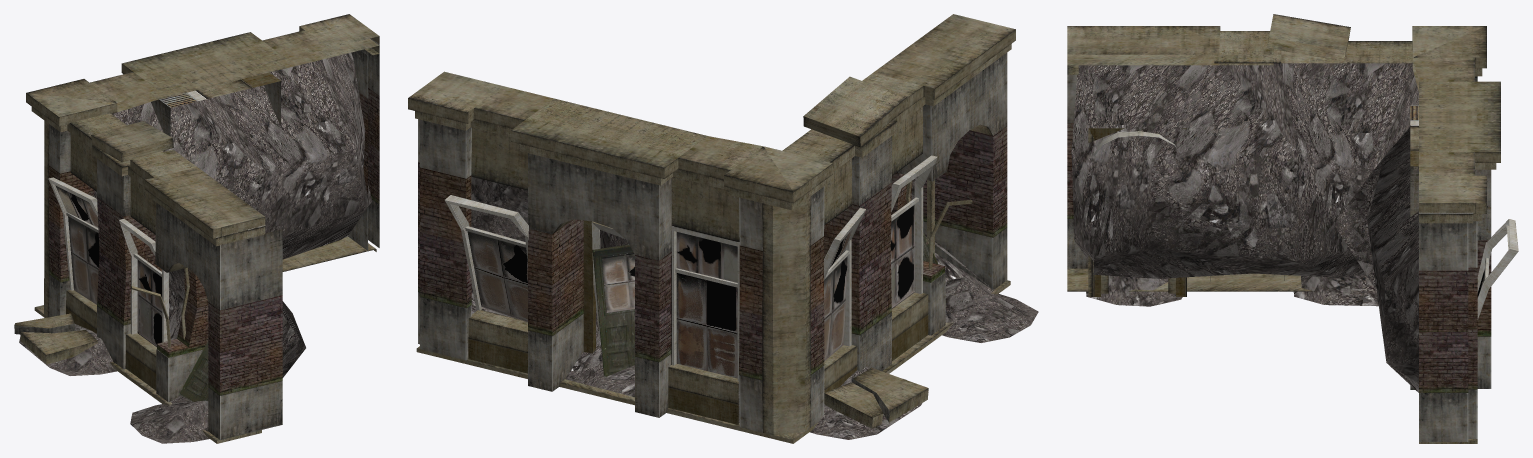
The model's file is Corner_Building_Part_010_Base.fbx.
3 renders of one model, left to right at view 1: azimuth 30°, elevation 25°; view 2: azimuth 150°, elevation 25°; view 3: azimuth 270°, elevation 25°, orthographic. The views are drawn at different scales.
Parts seen in each view (by area): view 1: Corner_Building_Part_010_Base; view 2: Corner_Building_Part_010_Base; view 3: Corner_Building_Part_010_Base.
Part boxes in pixels (x1,y1,x2,y2): Corner_Building_Part_010_Base: [14, 14, 379, 443]; Corner_Building_Part_010_Base: [408, 14, 1038, 443]; Corner_Building_Part_010_Base: [1067, 14, 1518, 443].
Size of the model in its own units: 820 by 489 by 770.
